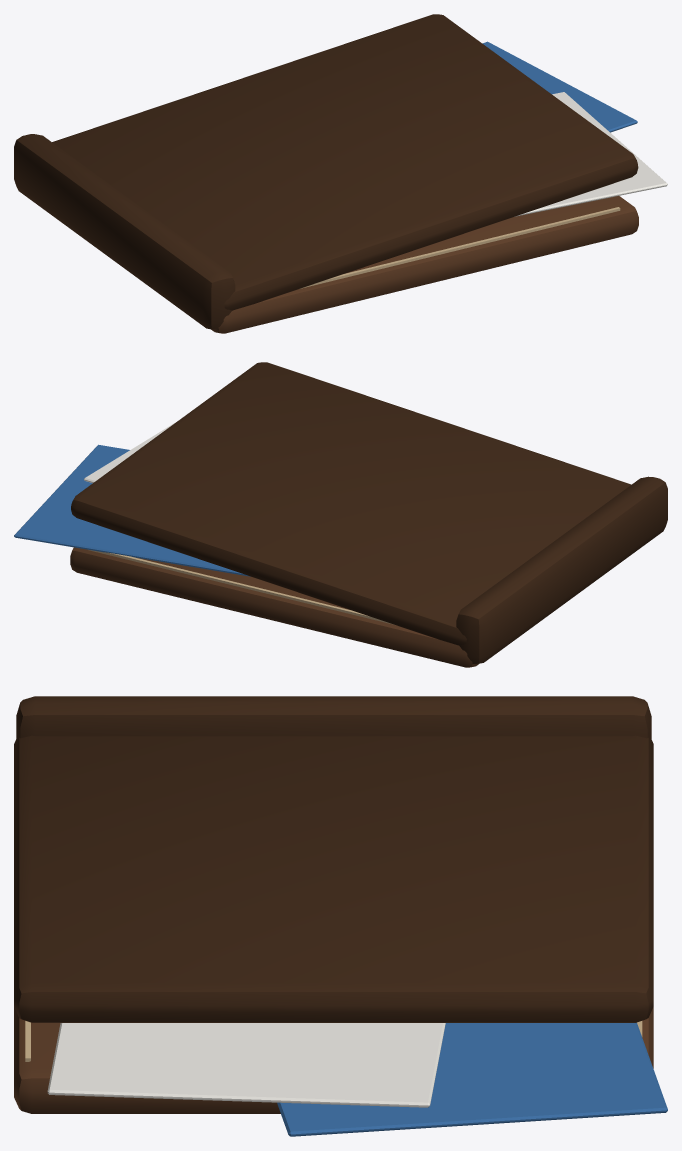
The model's file is wallet.glb.
3 renders of one model, top to bottom at view 1: azimuth 30°, elevation 25°; view 2: azimuth 150°, elevation 25°; view 3: azimuth 270°, elevation 25°, orthographic. The views are drawn at different scales.
Parts seen in each view (by area): view 1: wallet; view 2: wallet; view 3: wallet.
Boxes of the visible parts, bbox=[...] form: wallet: bbox=[14, 14, 667, 333]; wallet: bbox=[14, 362, 667, 667]; wallet: bbox=[14, 696, 667, 1136].
Bounding box in the file's own units: 0.13 × 0.0196 × 0.0899.
